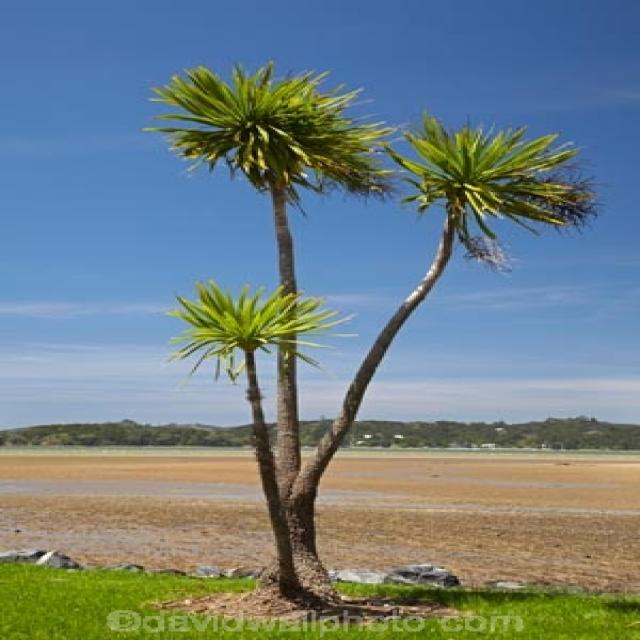Cordyline australis: (129, 63, 602, 599)
